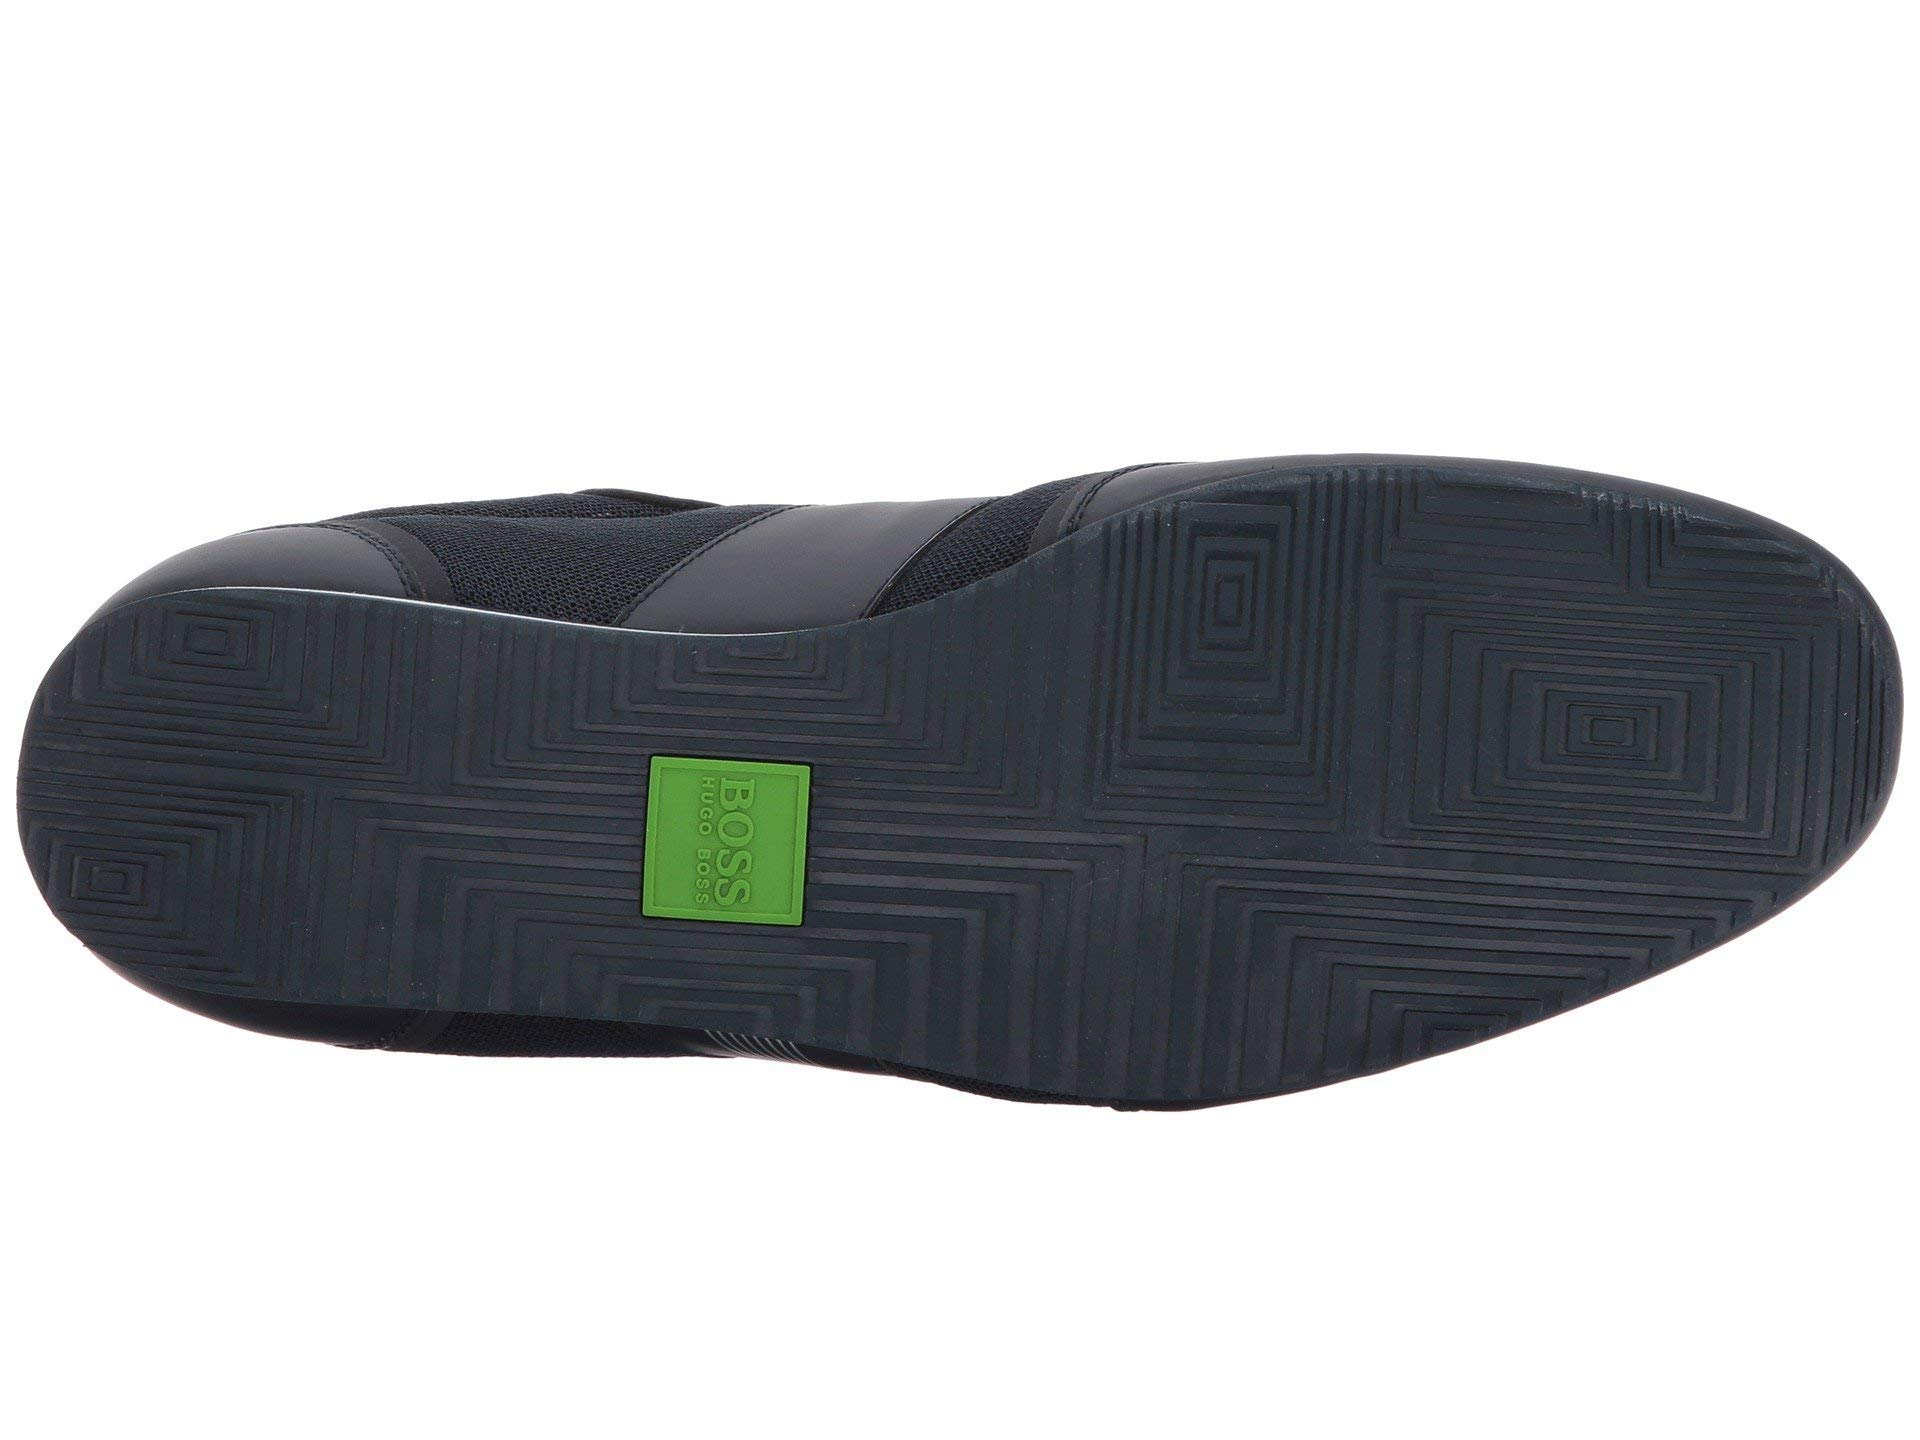circle: (571, 691, 887, 982)
line: (571, 691, 887, 982)
quad: (1134, 514, 1686, 986), (85, 620, 472, 1013), (571, 691, 887, 982)
text: (571, 691, 887, 982)
